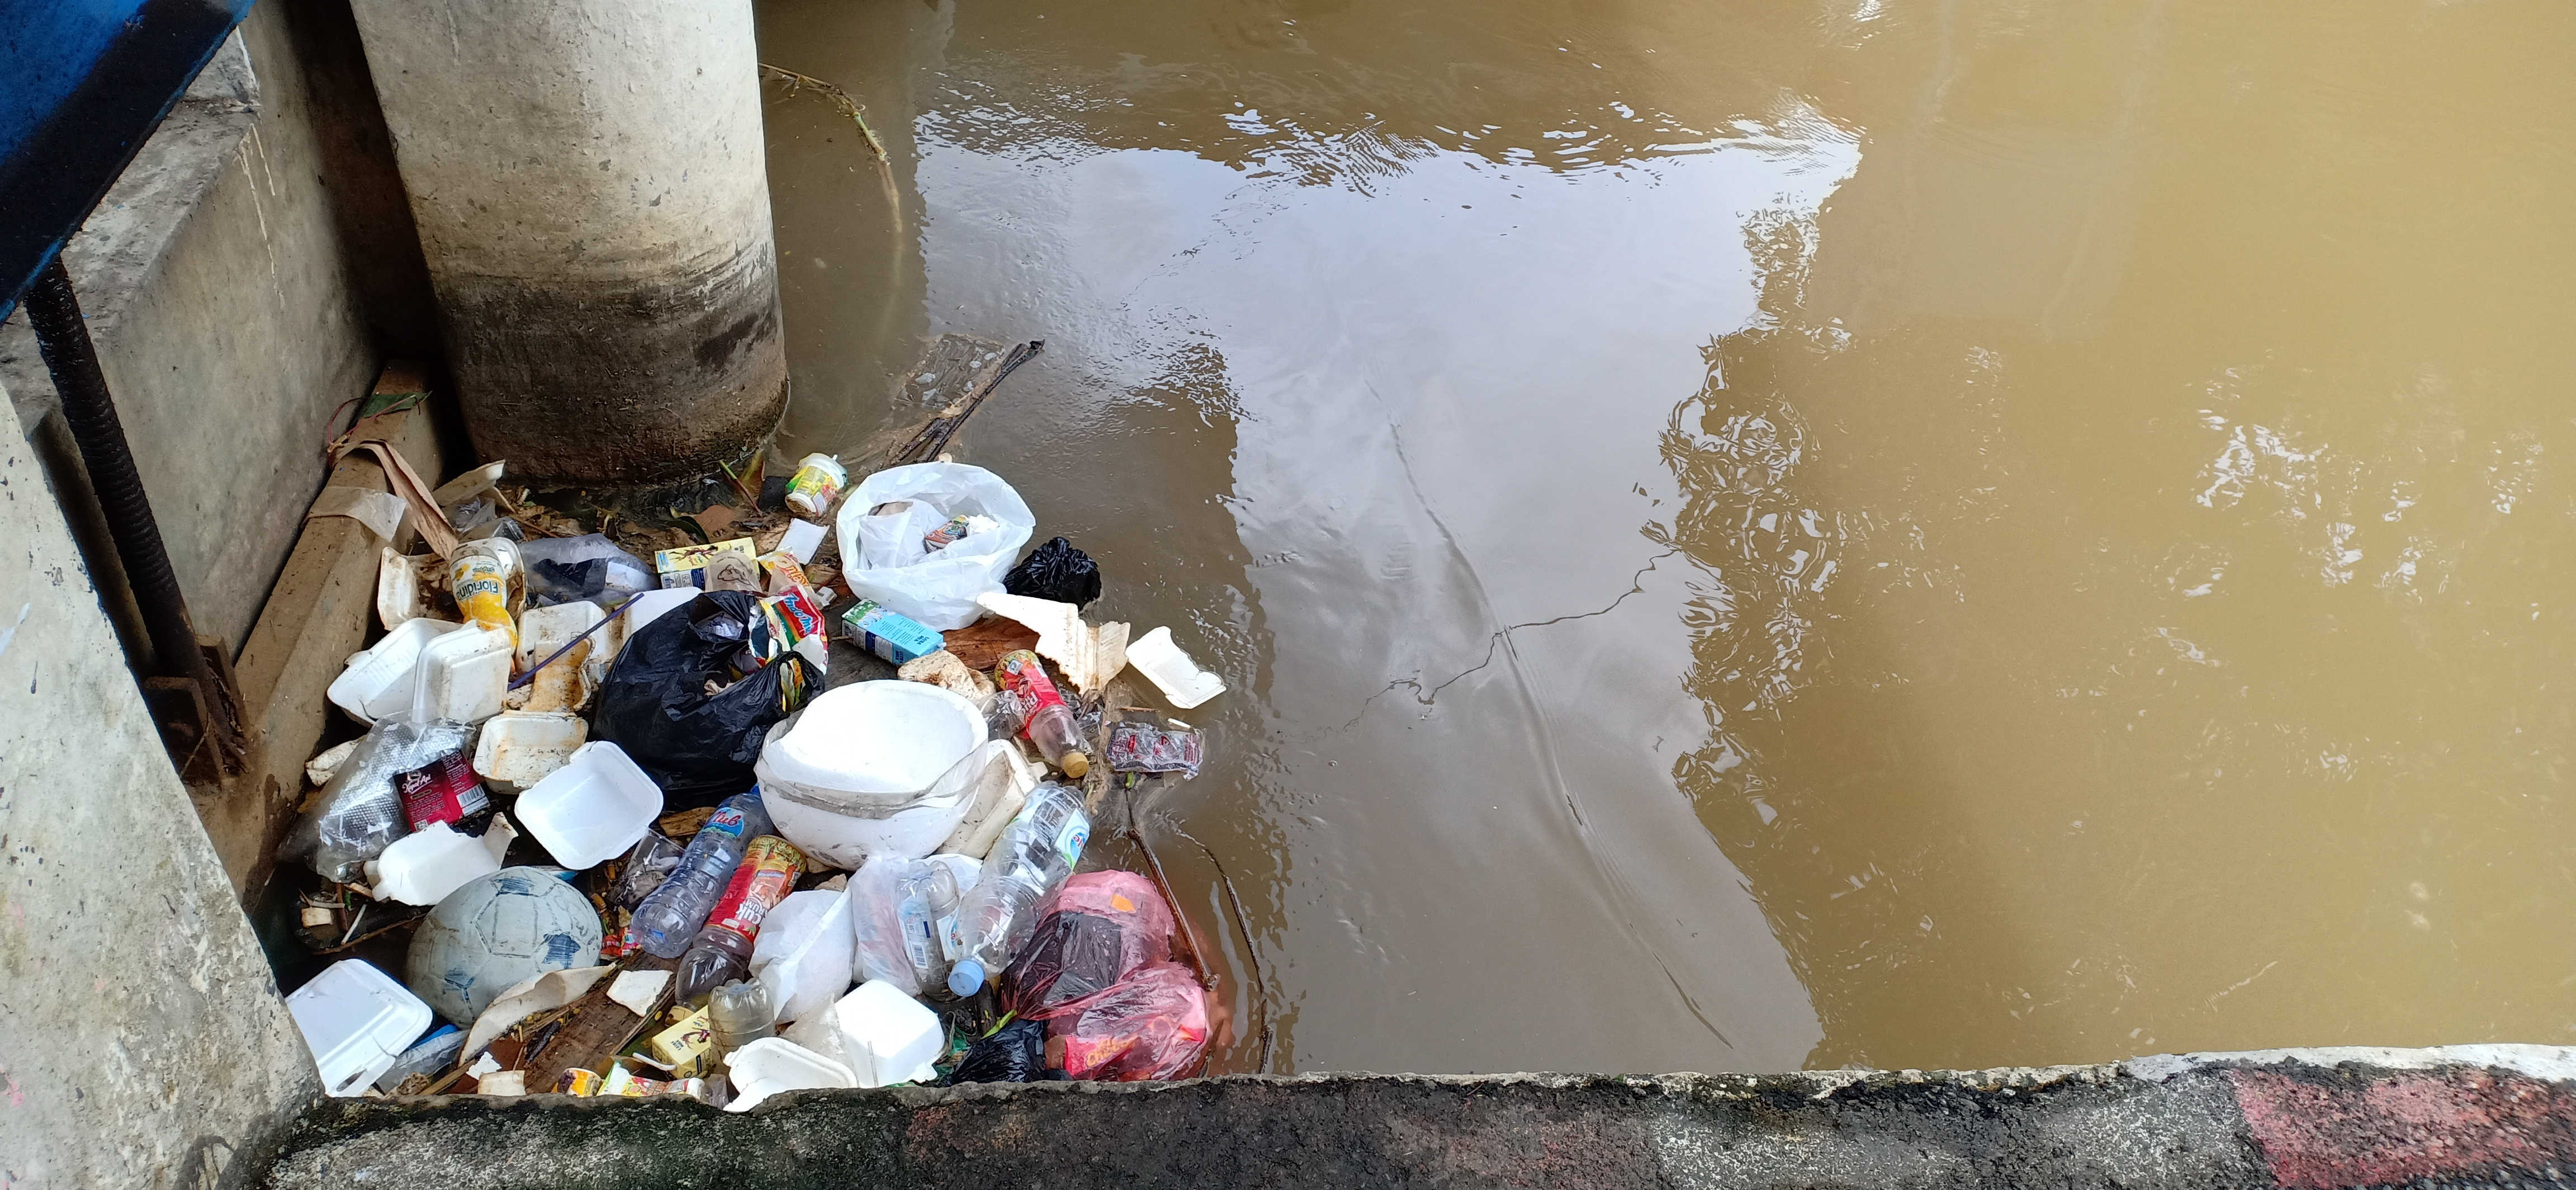Plastic Bottle: (946, 781, 1091, 996), (667, 835, 805, 1021), (631, 782, 774, 957), (994, 649, 1088, 779), (894, 861, 958, 1004), (447, 544, 517, 648), (708, 978, 775, 1063), (974, 690, 1022, 740)
